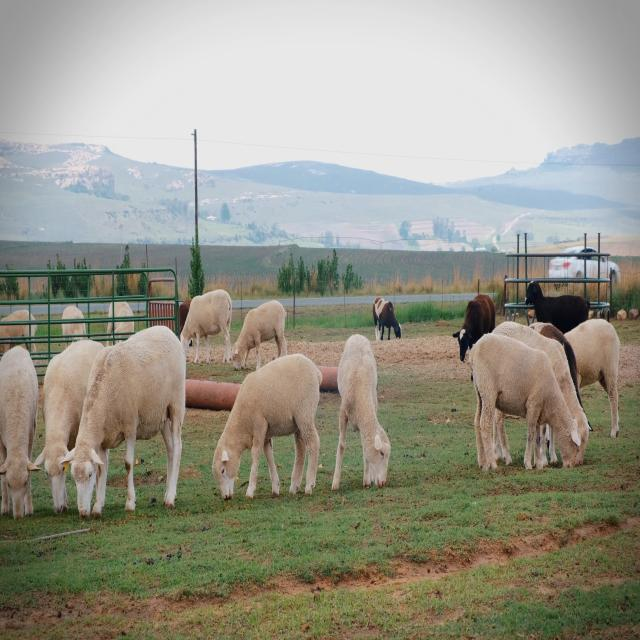sheep: (70, 326, 200, 540), (205, 348, 326, 514), (467, 334, 581, 506), (326, 319, 408, 507), (34, 354, 70, 528), (230, 294, 298, 384), (2, 351, 32, 538)
